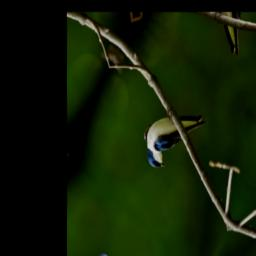Swallow: (135, 84, 208, 188)
